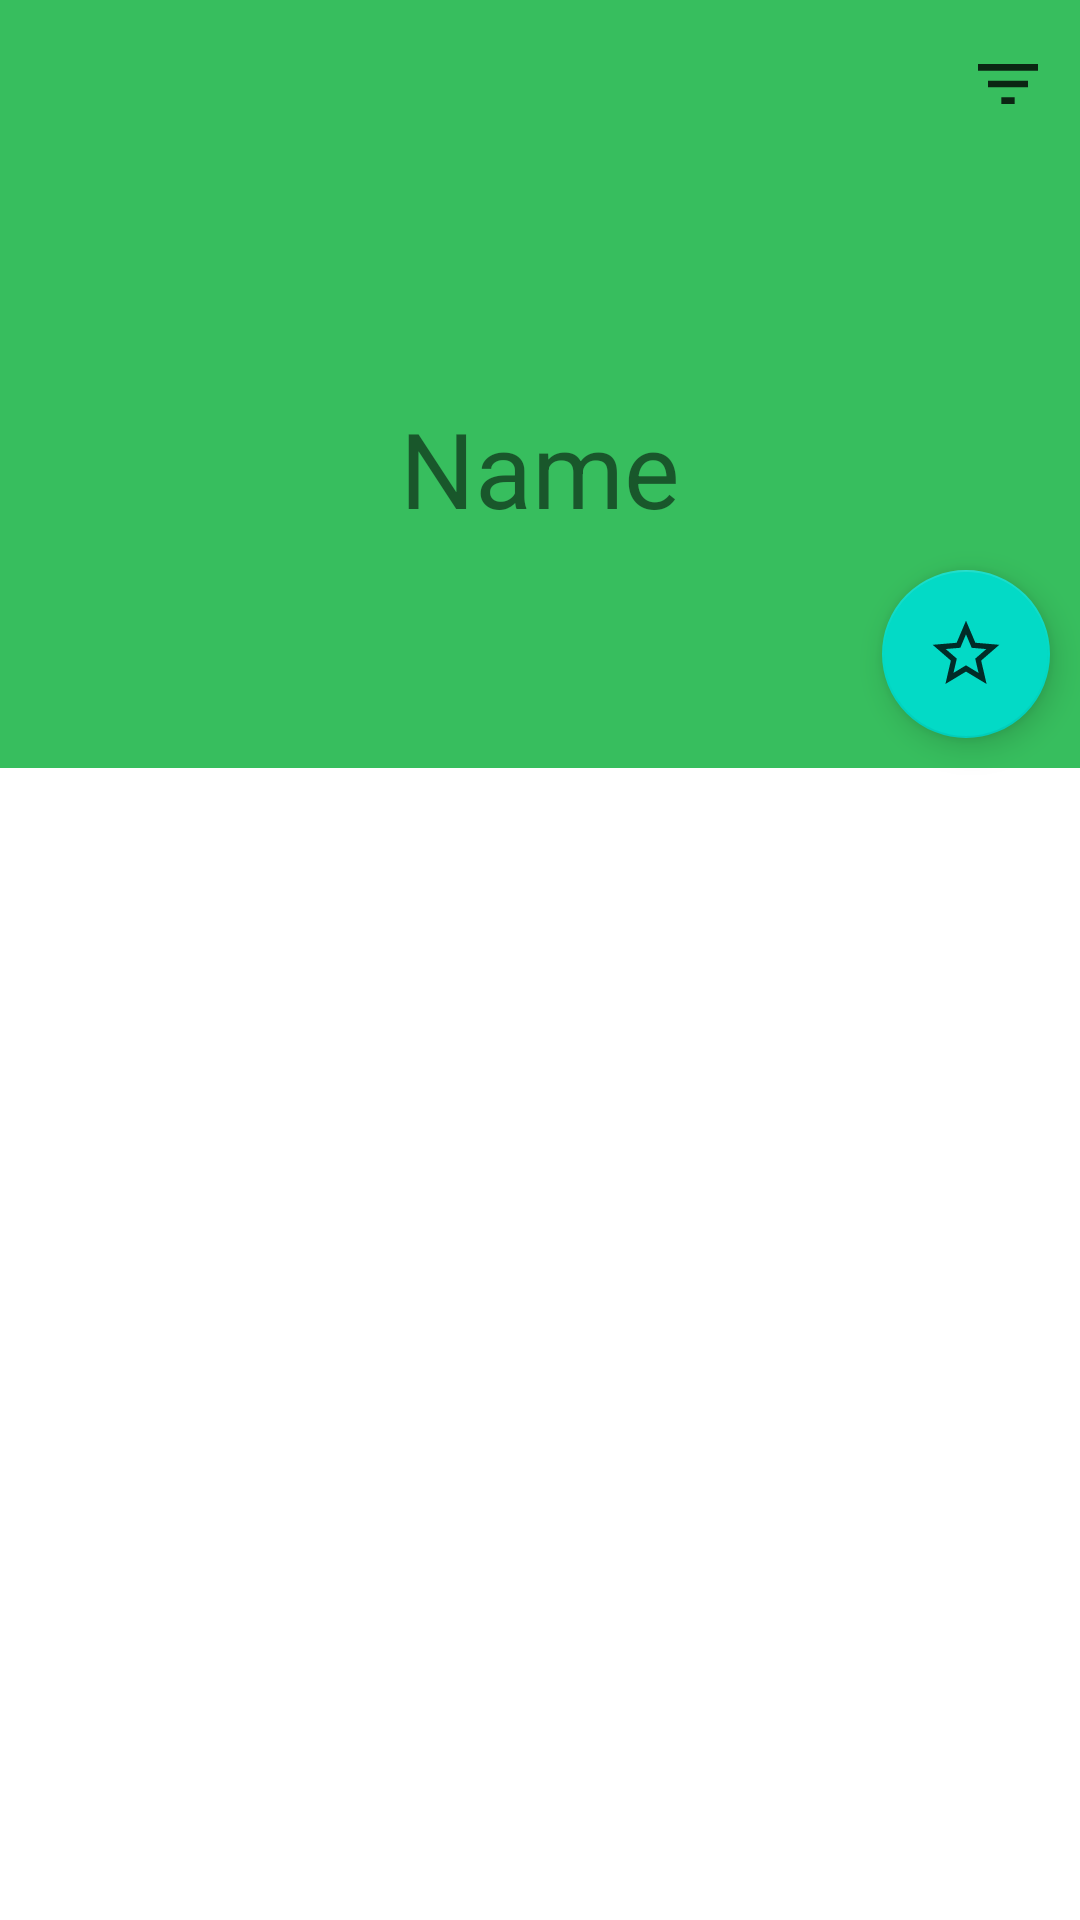

Named icons in this screenshot (1080 × 1920) and their centers, (x,y):
star unclicked: (966,654)
